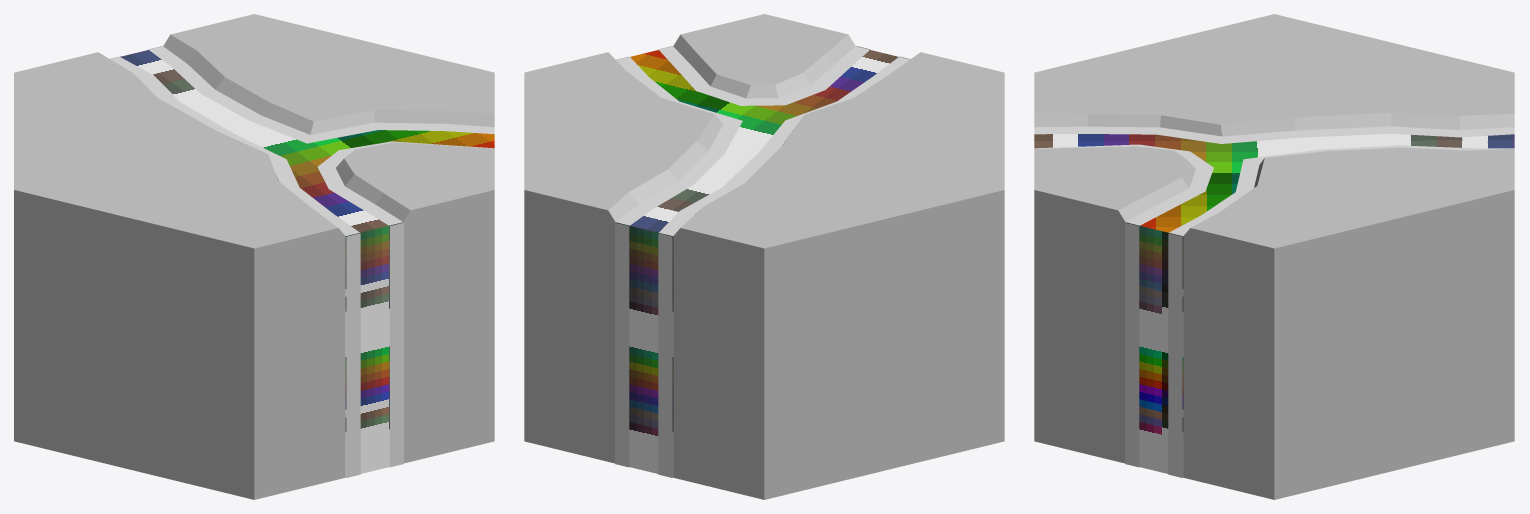
Rendered from Hexagon3_1.fbx.
3 renders of one model, left to right at view 1: azimuth 30°, elevation 25°; view 2: azimuth 150°, elevation 25°; view 3: azimuth 270°, elevation 25°, orthographic.
Parts seen in each view (by area): view 1: Hex3_1; view 2: Hex3_1; view 3: Hex3_1.
Part boxes in pixels (left/top/right/bottom): Hex3_1: left=14, top=14, right=494, bottom=499; Hex3_1: left=524, top=14, right=1004, bottom=499; Hex3_1: left=1034, top=14, right=1514, bottom=499.
Size of the model in its own units: 1000 by 500 by 870.
